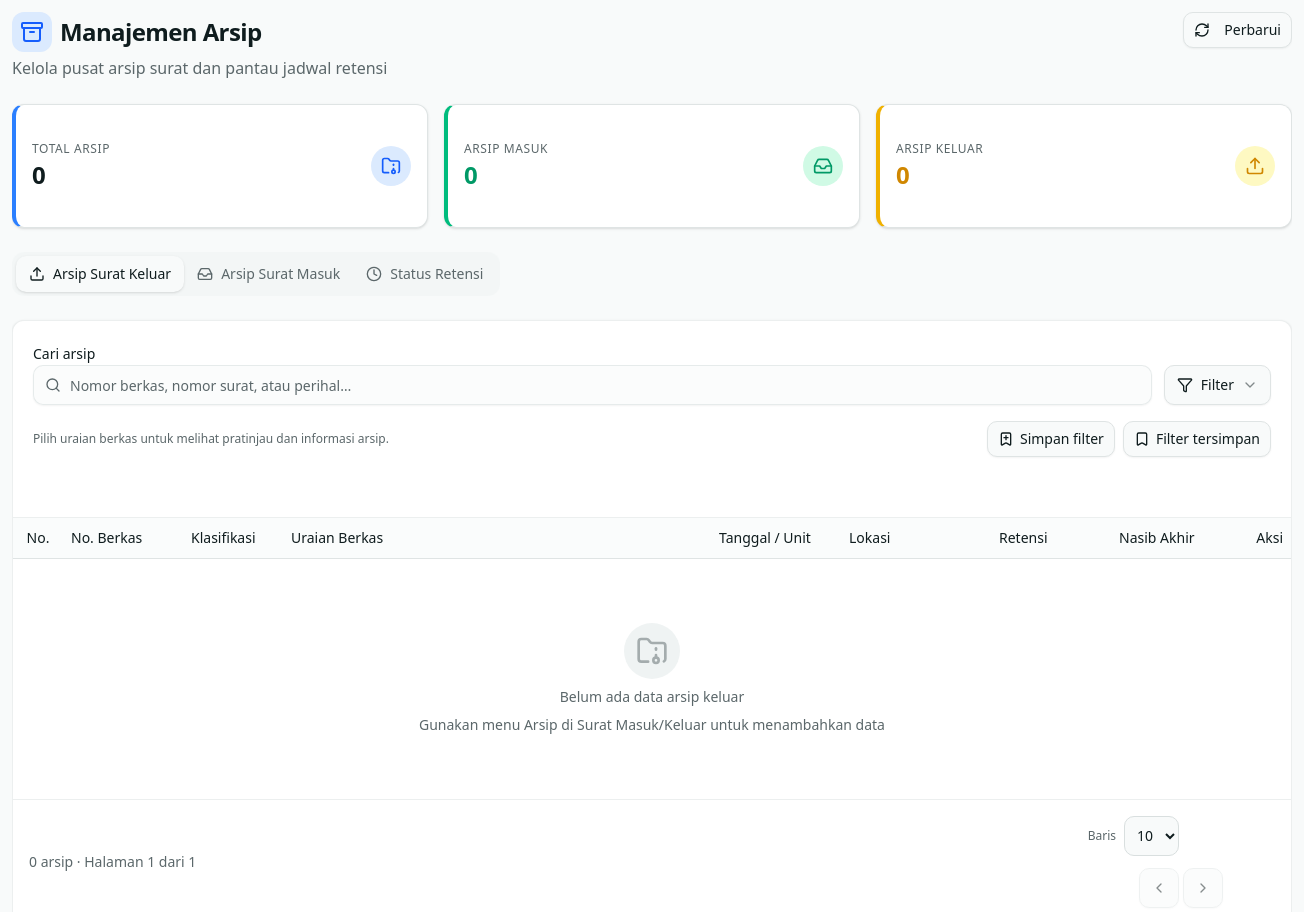
Test: archive refresh › shows newly available archives and updated totals when refreshed from the first page
The width and height of the screenshot is (1304, 912).
Check: the text "Belum ada data arsip keluar" is shown, box [560, 686, 744, 706]
Click the button "Perbarui".
click(1238, 30)  # box [1183, 12, 1292, 48]
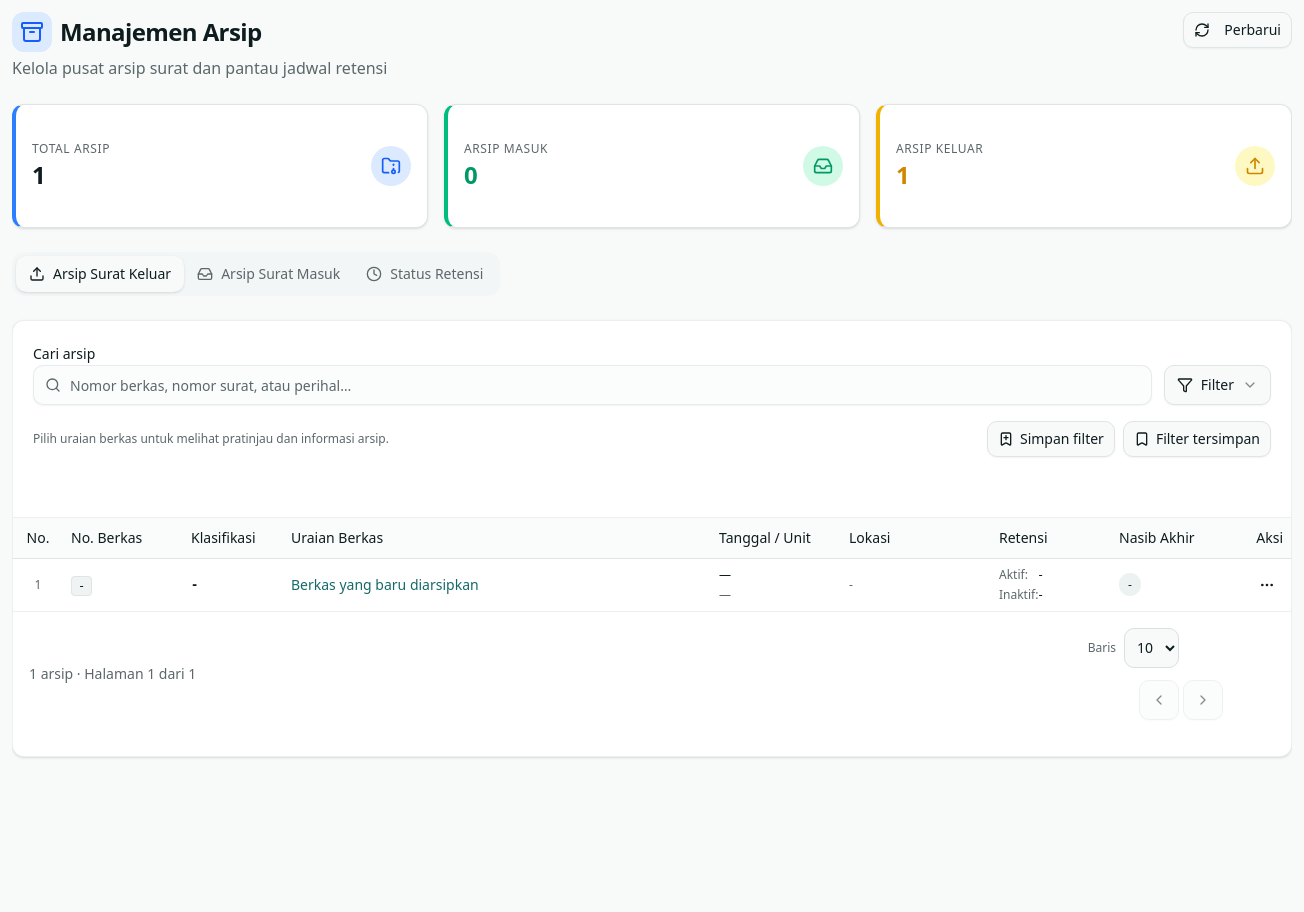
Check: the button "Berkas yang baru diarsipkan" is shown, box [291, 566, 591, 602]
